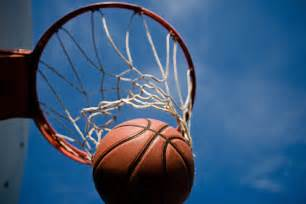basketball: (90, 116, 198, 204)
